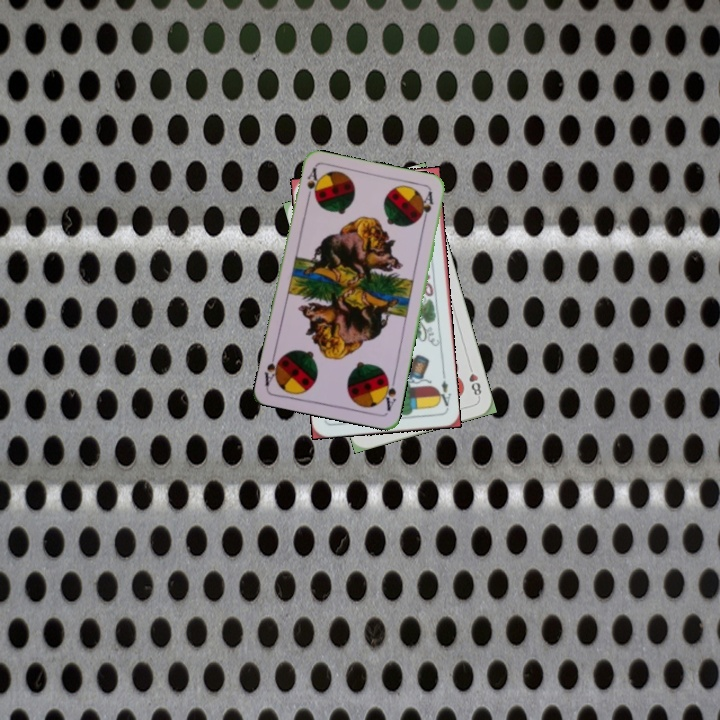EA: (433, 376, 453, 411)
H8: (464, 361, 484, 401)
SA: (378, 372, 398, 413), (303, 164, 321, 205)
